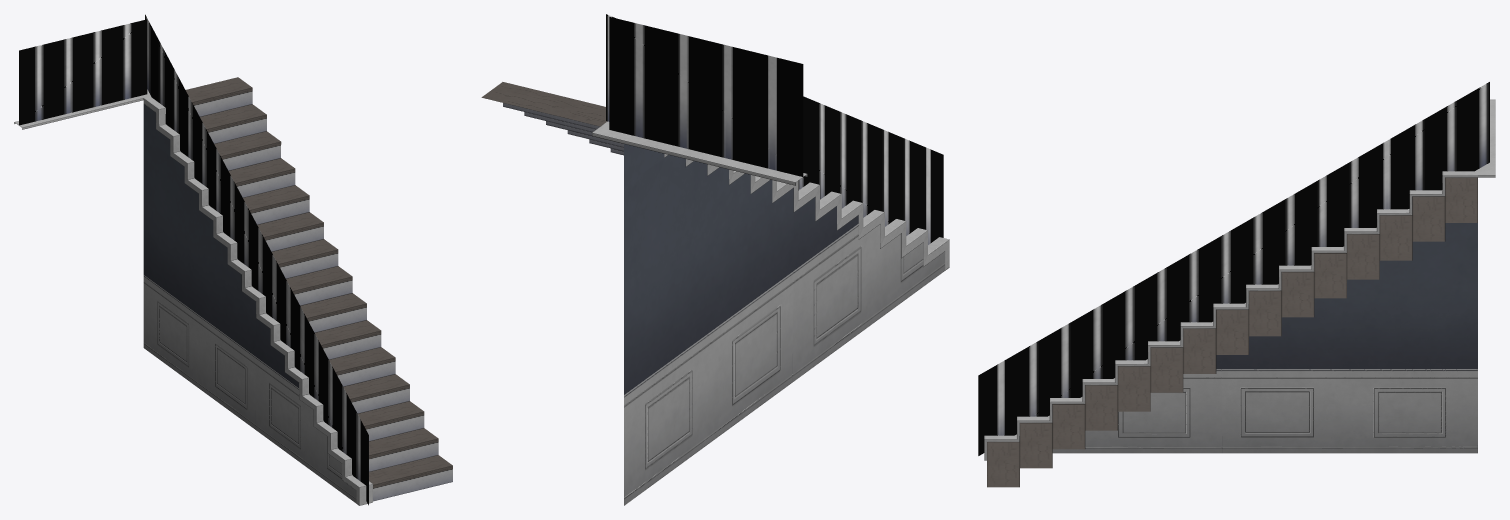
File: Stairs.fbx
3 views of the same model, side by side, from view 1: azimuth 30°, elevation 25°; view 2: azimuth 150°, elevation 25°; view 3: azimuth 270°, elevation 25° (orthographic). The views are drawn at different scales.
Parts seen in each view (by area): view 1: Stairs, StairsWall, RailingsPlane, RailingsPlane.001, StairsWall.001; view 2: StairsWall, RailingsPlane.001, StairsWall.001, RailingsPlane, Stairs; view 3: StairsWall, RailingsPlane, Stairs, StairsWall.001.
Part boxes in pixels (x1,y1,x2,y2): Stairs: (14,77,452,505); StairsWall: (143,136,255,429); RailingsPlane: (145,14,368,505); RailingsPlane.001: (19,19,147,125); StairsWall.001: (143,104,356,503); StairsWall: (624,155,793,505); RailingsPlane.001: (609,17,803,176); StairsWall.001: (624,144,944,381); RailingsPlane: (606,14,943,244); Stairs: (481,82,949,270); StairsWall: (1221,223,1477,453); RailingsPlane: (978,82,1489,455); Stairs: (984,99,1495,487); StairsWall.001: (1052,355,1222,453).
Size of the model in its own units: 320 by 464 by 580.
